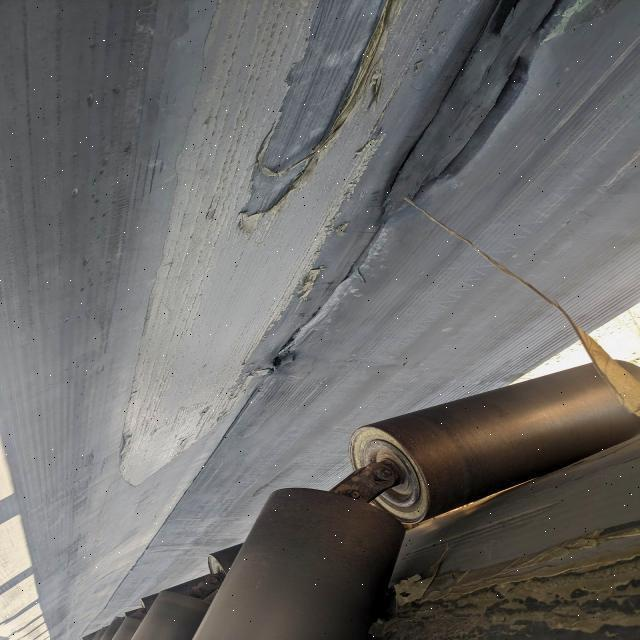Tear: (232, 0, 598, 386), (231, 0, 416, 234)
